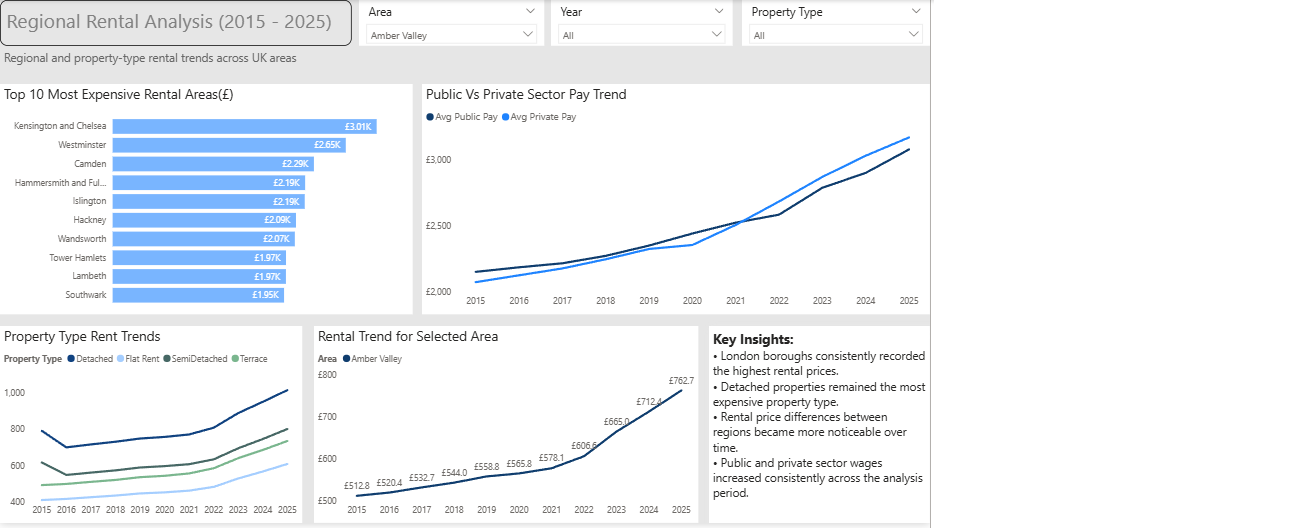

What the dashboard file says about the page in this screenshot:
{"tool":"powerbi","page":{"name":"Page 2","canvas":[1280,720],"ordinal":1},"visuals":[{"type":"textbox","box":[0,0,484.5,63.3],"z":0},{"type":"barChart","title":"Top 10 Most Expensive Rental Areas(£)","fields":{"Category":["AreaTable.Area"],"Y":["Rent.Avg_Rent"]},"box":[0,115.6,568.4,316.6],"z":1000},{"type":"lineChart","title":"Property Type Rent Trends","fields":{"Category":["DateTable.Year"],"Y":["Rent.Avg Property Rent"],"Series":["Rent.Property Type"]},"box":[0,448,416,272],"z":2000},{"type":"lineChart","title":"Rental Trend for Selected Area","fields":{"Category":["DateTable.Year"],"Y":["Rent.Avg_Rent"],"Series":["AreaTable.Area"]},"box":[432.2,448.7,528.5,271.1],"z":3000},{"type":"slicer","fields":{"Values":["AreaTable.Area"]},"box":[494.1,0,255,63.3],"z":4000},{"type":"slicer","fields":{"Values":["DateTable.Year"]},"box":[758.4,0,250.5,63.3],"z":5000},{"type":"slicer","fields":{"Values":["Rent.Property Type"]},"box":[1021.2,0,258.8,63.3],"z":6000},{"type":"textbox","box":[975.8,448.7,304.2,272],"z":7000},{"type":"lineChart","title":"Public Vs Private Sector Pay Trend","fields":{"Category":["DateTable.Year"],"Y":["Income.Avg Public Pay","Income.Avg Private Pay"]},"box":[580.8,115.6,699.2,316.6],"z":8000},{"type":"textbox","box":[0,63.3,568.4,41.3],"z":9000}]}

Visuals, with their boxes on the page's 1280x720 design canvas (x1, y1, x2, y2). These are canvas units, not pixel positions in the 1303x528 screenshot, which may show the page scaled, cropped or inside an application window:
textbox: <bbox>0, 0, 484, 63</bbox>
"Top 10 Most Expensive Rental Areas(£)" barChart: <bbox>0, 116, 568, 432</bbox>
"Property Type Rent Trends" lineChart: <bbox>0, 448, 416, 720</bbox>
"Rental Trend for Selected Area" lineChart: <bbox>432, 449, 961, 720</bbox>
slicer - AreaTable.Area: <bbox>494, 0, 749, 63</bbox>
slicer - DateTable.Year: <bbox>758, 0, 1009, 63</bbox>
slicer - Rent.Property Type: <bbox>1021, 0, 1280, 63</bbox>
textbox: <bbox>976, 449, 1280, 721</bbox>
"Public Vs Private Sector Pay Trend" lineChart: <bbox>581, 116, 1280, 432</bbox>
textbox: <bbox>0, 63, 568, 105</bbox>
